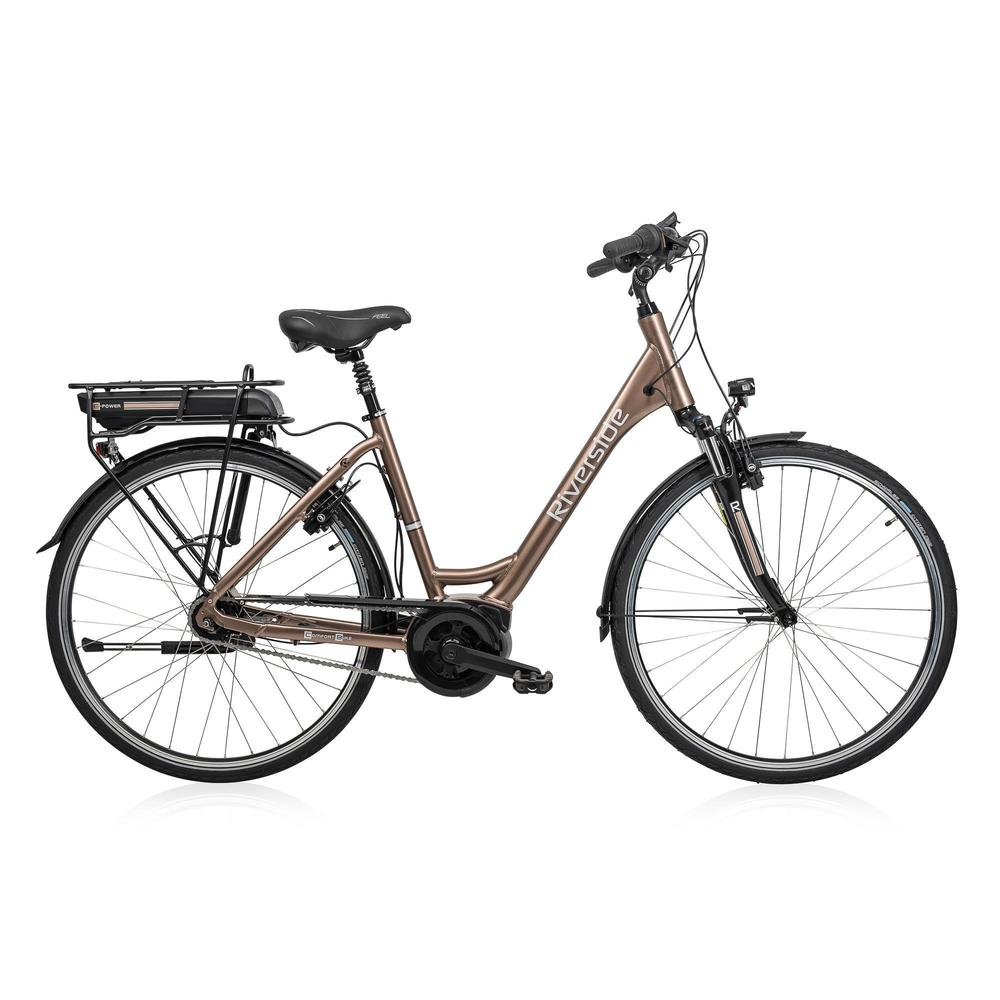UrbanBike: (43, 210, 944, 787)
